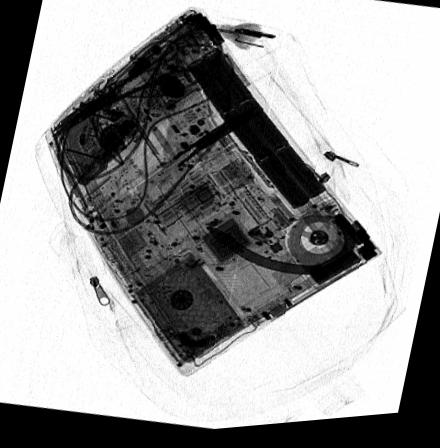Scissors: (44, 37, 188, 138), (138, 105, 268, 200)
